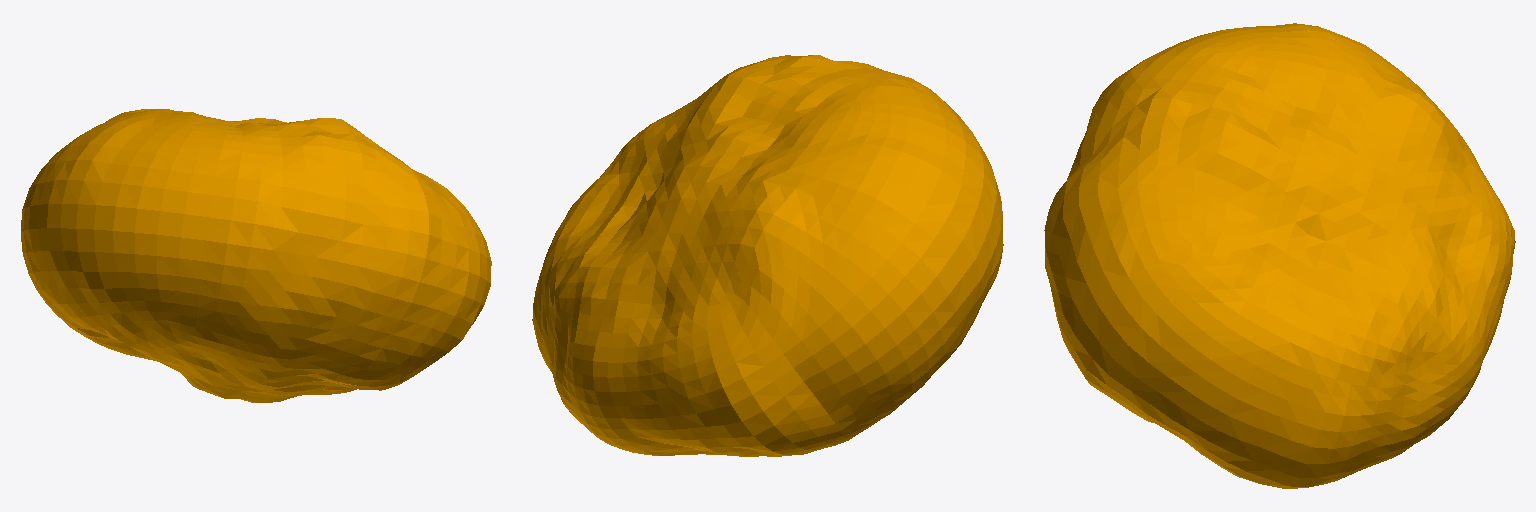
The robot description file, URDF, robot "rock":
<?xml version="1.0" ?>
<robot name="rock">
  <link name="rock">
    <inertial>
      <mass value="0.320"/>
      <origin rpy="0 0 0" xyz="0 0 0"/>
      <inertia ixx="0.000320" ixy="0" ixz="0" iyy="0.000320" iyz="0" izz="0.000320"/>
    </inertial>
    <collision name="rock_collision">
      <origin rpy="0 0 0" xyz="0 0 0"/>
      <geometry>
        <mesh filename="package://rocks/visual/91.dae" scale="1 1 1"/>
      </geometry>
    </collision>
    <visual name="rock_visual">
      <origin rpy="0 0 0" xyz="0 0 0"/>
      <geometry>
        <mesh filename="package://rocks/visual/91.dae" scale="1 1 1"/>
      </geometry>
    </visual>
  </link>
</robot>

--- Render facts (derived) ---
3 views of the same robot in one strip: view 1: azimuth 30°, elevation 25°; view 2: azimuth 150°, elevation 25°; view 3: azimuth 270°, elevation 25° (orthographic).
Model rock with 1 links and 0 joints (none), rooted at rock, posed all joints at 0.
Visible links, largest first — view 1: rock; view 2: rock; view 3: rock.
Link boxes in pixels (x1,y1,x2,y2): rock: (21, 109, 491, 402); rock: (532, 55, 1003, 456); rock: (1044, 23, 1515, 488).
Size in the robot's own frame: 0.0909 by 0.0853 by 0.0678 metres.
Meshes: 1 distinct files referenced, 1 mesh visuals loaded (1 Collada DAE).